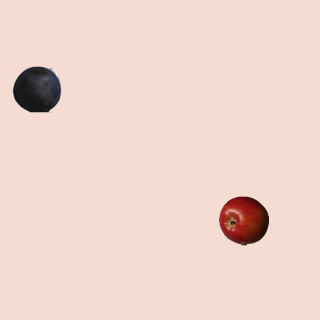Apple Braeburn: (218, 195, 268, 245)
Grape Blue: (11, 63, 61, 113)
